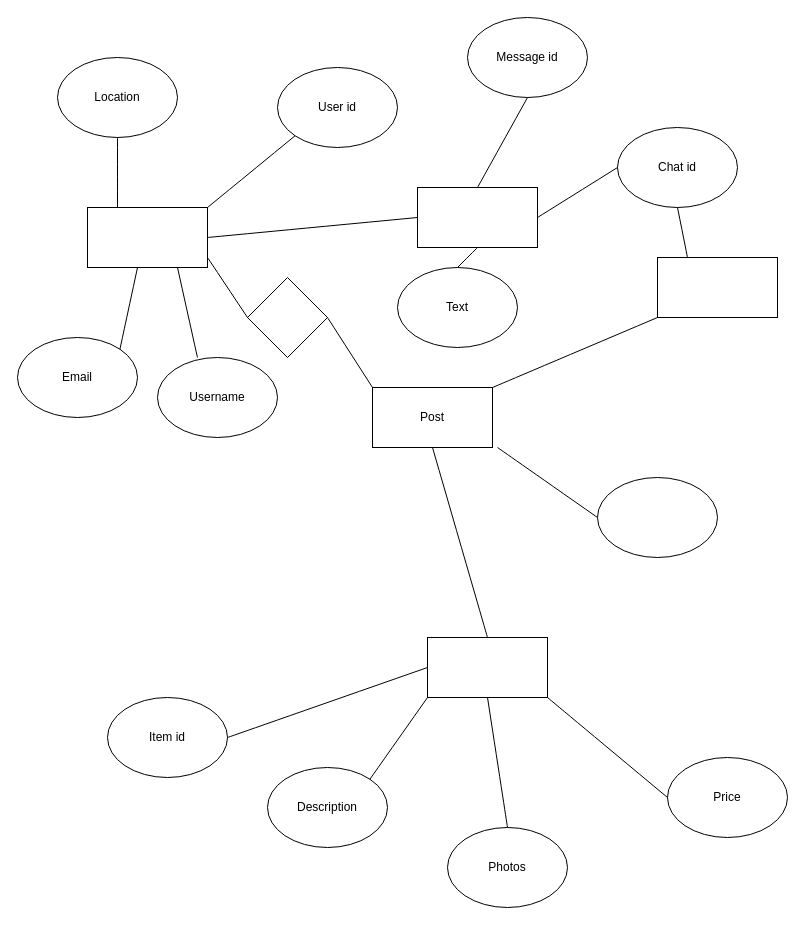
This 805x925 diagram has some shape labels left out. The shapes that lost their labels are listed below. From the top down, each one's box as (x1, y1, x2, y2) in pixels, then its label:
(86, 206, 208, 268): User
(416, 186, 538, 248): Message
(656, 256, 778, 318): Chat
(246, 276, 328, 358): Connection
(596, 476, 718, 558): post id
(426, 636, 548, 698): Item
